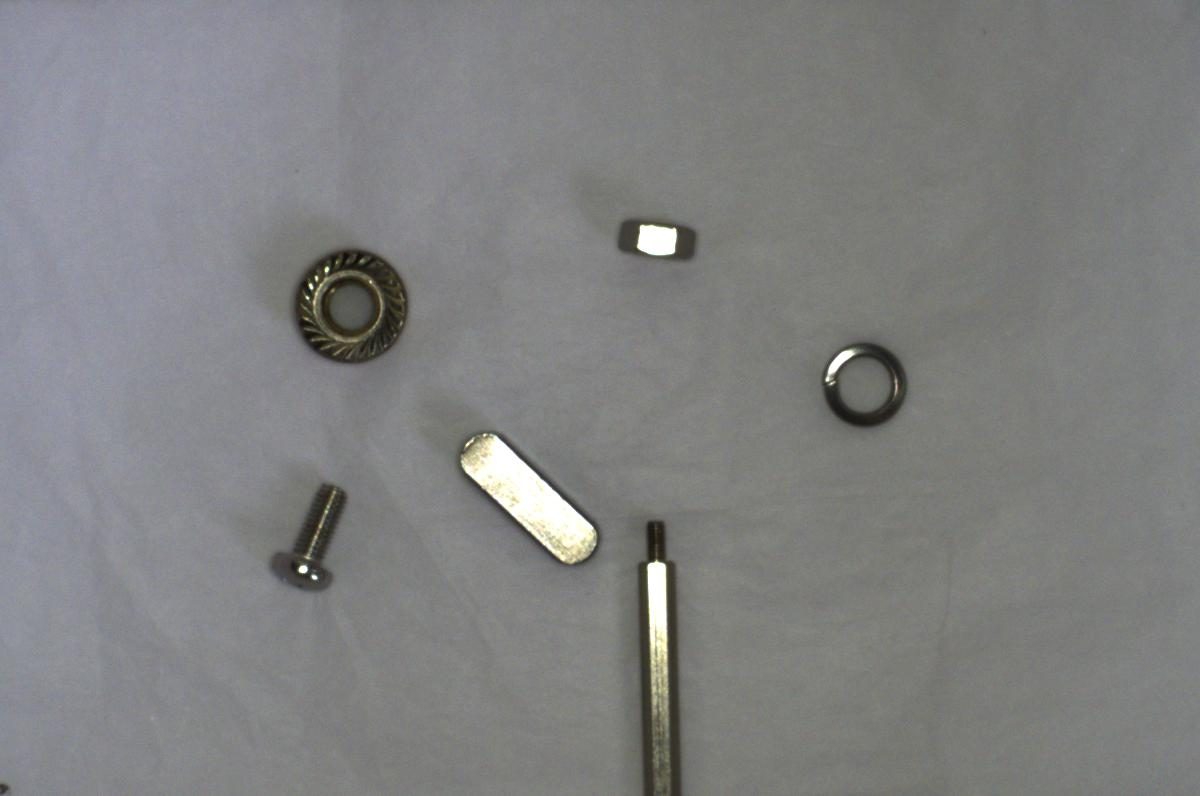Flange nut: (286, 242, 425, 376)
Hexagon nut: (600, 203, 706, 269)
Hexagonal steel column: (622, 506, 708, 789)
Keybar: (446, 425, 604, 568)
Round head screw: (264, 472, 347, 596)
Spring washer: (813, 336, 914, 430)
